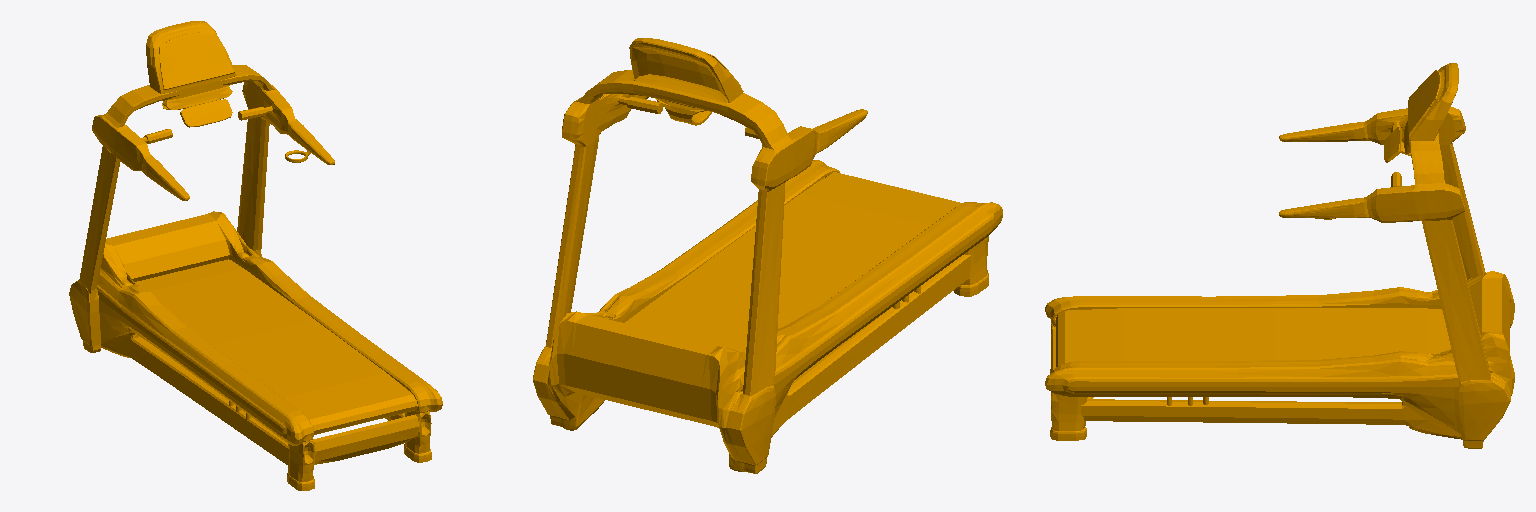
robot.urdf — none:
<robot name="none">
       <link name="none">
           <visual>
               <origin rpy="1.57 0 0" xyz="0 0 0" />
               <geometry>
                   <mesh filename="treadmill.obj" />
               </geometry>
           </visual>
          <collision>
              <geometry>
                  <box size="0.451768 0.779247 1.000000" />
              </geometry>
          </collision>

          <inertial>
            <mass value="0.0" />
            <inertia ixx="0.0" ixy="0.0" ixz="0.0" iyy="0.0" iyz="0.0" izz="0.0" />
          </inertial>
      </link>
  </robot>

--- Facts derived from the render (not from the file) ---
Views: 3 orthographic renders of the robot side by side, from view 1: azimuth 30°, elevation 25°; view 2: azimuth 150°, elevation 25°; view 3: azimuth 270°, elevation 25°.
Robot: none — 1 links, 0 joints (none); root link none; default pose: all joints at 0.
Links seen in each view (by area): view 1: none; view 2: none; view 3: none.
Link boxes in pixels (x1,y1,x2,y2): none: [69, 21, 442, 490]; none: [533, 38, 1002, 473]; none: [1045, 63, 1514, 448].
Bounding box of the posed robot: 0.4518 × 1 × 0.7793 m (x, y, z).
Meshes: 1 distinct files referenced, 1 mesh visuals loaded (1 OBJ).